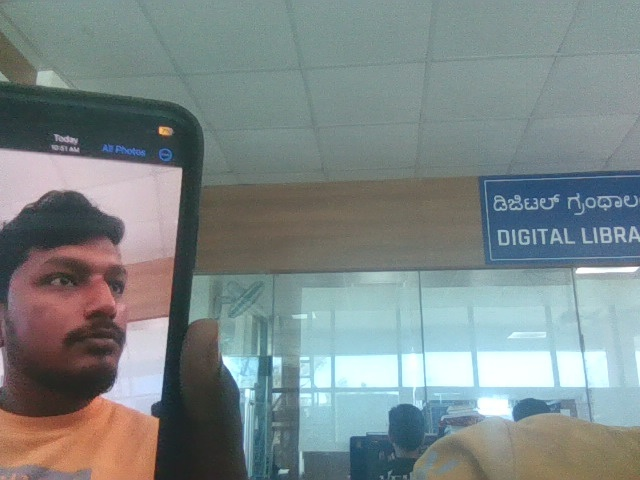fake: (0, 151, 177, 402)
